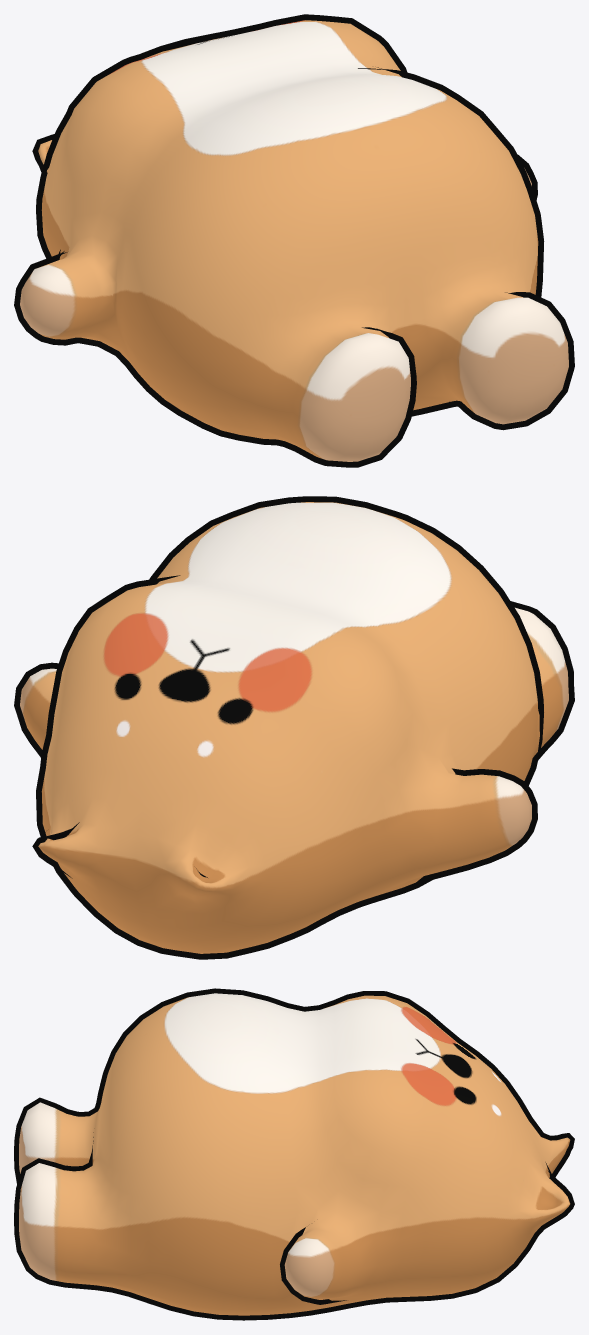
Rendered from cutedog.glb.
3 views of the same model, one above another, from view 1: azimuth 30°, elevation 25°; view 2: azimuth 150°, elevation 25°; view 3: azimuth 270°, elevation 25° (orthographic). The views are drawn at different scales.
Visible parts, largest first — view 1: dog_02_-_Default_0, dog_outline_02_-_Default_0; view 2: dog_02_-_Default_0, dog_outline_02_-_Default_0; view 3: dog_02_-_Default_0, dog_outline_02_-_Default_0.
Boxes of the visible parts, x1,y1,x2,y2 form: dog_02_-_Default_0: (20, 20, 568, 461); dog_outline_02_-_Default_0: (14, 14, 574, 467); dog_02_-_Default_0: (20, 502, 568, 953); dog_outline_02_-_Default_0: (14, 496, 574, 959); dog_02_-_Default_0: (19, 993, 570, 1315); dog_outline_02_-_Default_0: (14, 988, 574, 1320).
Bounding box in the file's own units: 138 × 85.68 × 158.
1 material, 1 textured.
